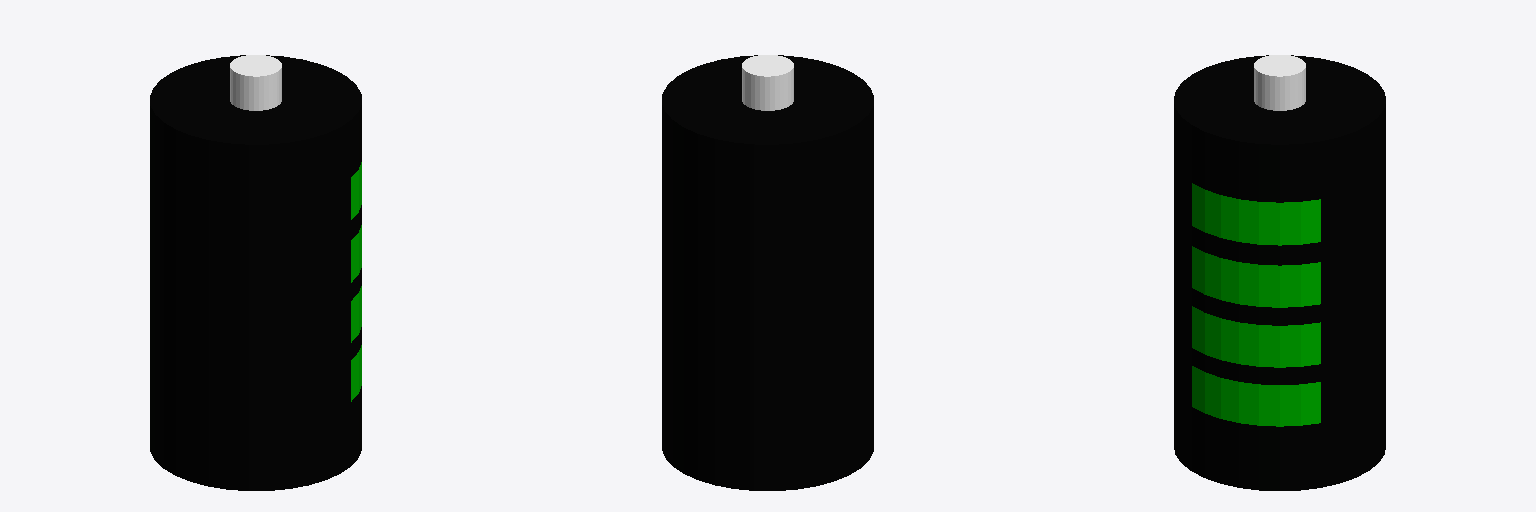
File: Battery.obj
3 renders of one model, left to right at view 1: azimuth 30°, elevation 25°; view 2: azimuth 150°, elevation 25°; view 3: azimuth 270°, elevation 25°, orthographic.
Parts seen in each view (by area): view 1: Cylinder; view 2: Cylinder; view 3: Cylinder.
Part boxes in pixels (bbox=[...]): Cylinder: bbox=[150, 55, 361, 490]; Cylinder: bbox=[662, 55, 873, 490]; Cylinder: bbox=[1174, 55, 1385, 490].
Size of the model in its own units: 2.3 by 4.55 by 2.3.